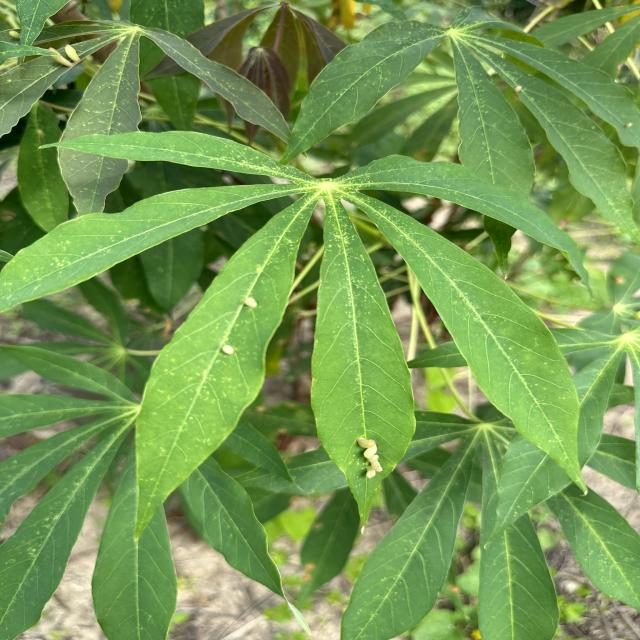Mosca: (349, 429, 387, 494), (43, 38, 85, 74), (207, 324, 238, 354), (6, 20, 29, 49), (233, 292, 263, 314), (624, 120, 640, 141), (506, 83, 529, 95)
